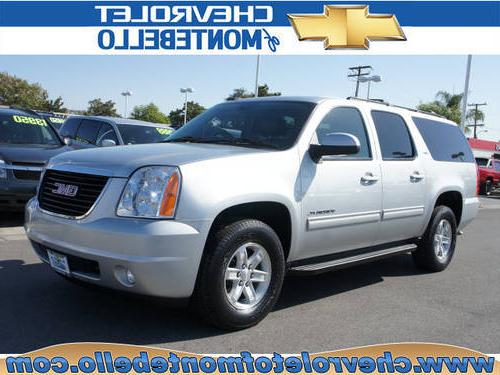Car: (2, 84, 489, 340), (51, 106, 177, 182), (2, 108, 70, 228)
